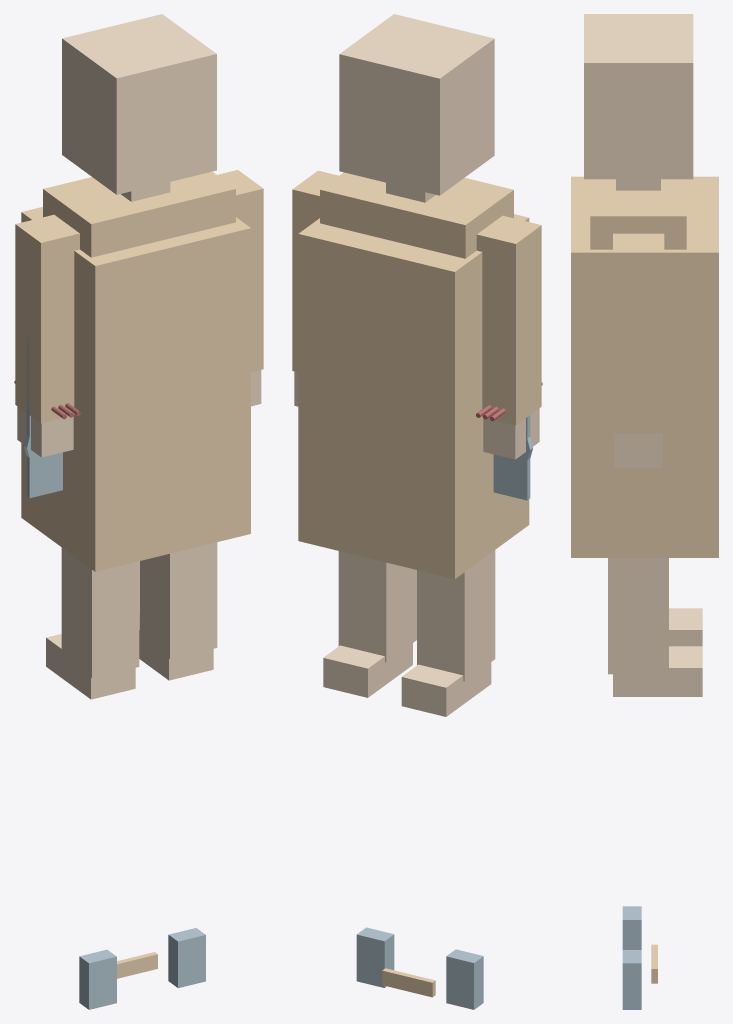
Rendered from ariadne.glb.
3 views of the same model, side by side, from view 1: azimuth 30°, elevation 25°; view 2: azimuth 150°, elevation 25°; view 3: azimuth 270°, elevation 25° (orthographic).
Visible parts, largest first — view 1: outfit_tunic_0, head, arm_L_upper, torso, leg_L_shin, leg_R_shin, arm_R_upper, prop, leg_L_foot, outfit_sandals_1, outfit_sandals_0, arm_L_hand (+2 smaller); view 2: outfit_tunic_0, head, arm_L_upper, torso, leg_L_shin, leg_R_shin, leg_L_foot, leg_R_foot, arm_R_upper, prop, outfit_sandals_0, outfit_sandals_1 (+2 smaller); view 3: outfit_tunic_0, head, arm_R_upper, leg_R_shin, torso, leg_R_foot, arm_R_hand, leg_L_foot, outfit_sandals_1, outfit_sandals_0, neck.
Boxes of the visible parts, bbox=[...] form: outfit_tunic_0: bbox=[21, 207, 250, 571]; head: bbox=[62, 14, 216, 194]; arm_L_upper: bbox=[15, 214, 79, 423]; torso: bbox=[43, 171, 235, 257]; leg_L_shin: bbox=[61, 547, 139, 678]; leg_R_shin: bbox=[139, 542, 217, 659]; arm_R_upper: bbox=[217, 170, 263, 372]; prop: bbox=[14, 336, 80, 497]; leg_L_foot: bbox=[46, 634, 135, 699]; outfit_sandals_1: bbox=[168, 928, 205, 988]; outfit_sandals_0: bbox=[79, 949, 116, 1009]; arm_L_hand: bbox=[17, 406, 73, 457]; outfit_tunic_0: bbox=[298, 214, 529, 579]; head: bbox=[339, 14, 494, 195]; arm_L_upper: bbox=[476, 215, 541, 425]; torso: bbox=[320, 172, 513, 258]; leg_L_shin: bbox=[417, 550, 495, 681]; leg_R_shin: bbox=[338, 551, 416, 662]; leg_L_foot: bbox=[401, 662, 491, 716]; leg_R_foot: bbox=[323, 643, 412, 697]; arm_R_upper: bbox=[292, 170, 338, 372]; prop: bbox=[476, 382, 542, 500]; outfit_sandals_0: bbox=[446, 949, 483, 1009]; outfit_sandals_1: bbox=[356, 927, 394, 987]; outfit_tunic_0: bbox=[571, 176, 718, 557]; head: bbox=[584, 14, 693, 179]; arm_R_upper: bbox=[613, 233, 664, 433]; leg_R_shin: bbox=[608, 558, 668, 674]; torso: bbox=[590, 179, 686, 249]; leg_R_foot: bbox=[613, 646, 702, 696]; arm_R_hand: bbox=[614, 433, 662, 467]; leg_L_foot: bbox=[669, 608, 702, 646]; outfit_sandals_1: bbox=[622, 950, 641, 1009]; outfit_sandals_0: bbox=[622, 906, 641, 949]; neck: bbox=[616, 179, 660, 190].
Size of the model in its own units: 0.81 by 3.24 by 0.46.
